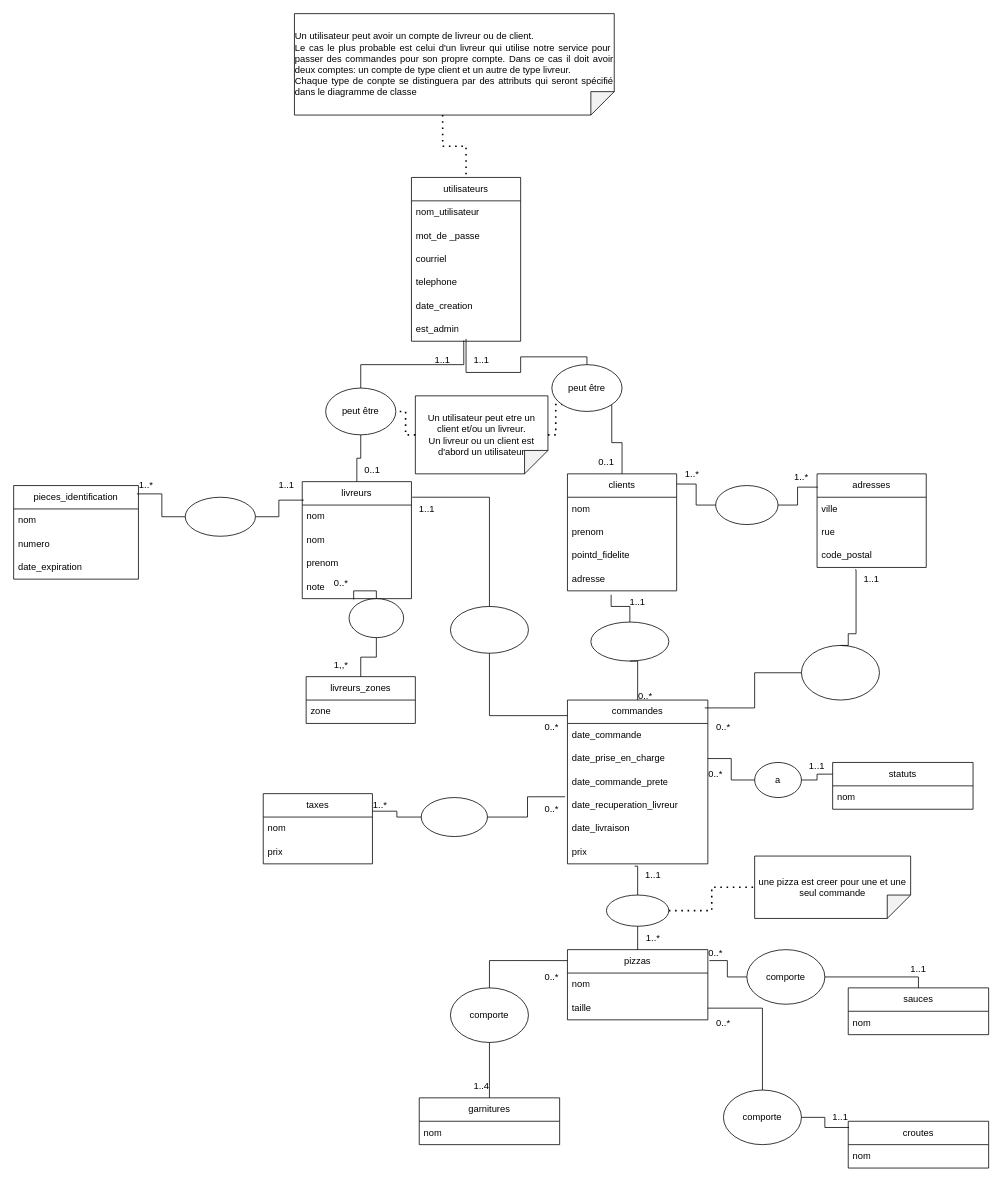
Some shapes in this 1002 by 1182 pixel diagram are drawn without their labels. Here are the shapes that lost their labels. From the top down, the centre of each, then its label:
At [219,516]: "possede".
At [746,505]: "possède".
At [376,618]: "couvre".
At [489,629]: "livre".
At [629,641]: "passe".
At [840,672]: "livré a".
At [454,817]: "inclus".
At [637,910]: "concerne".
